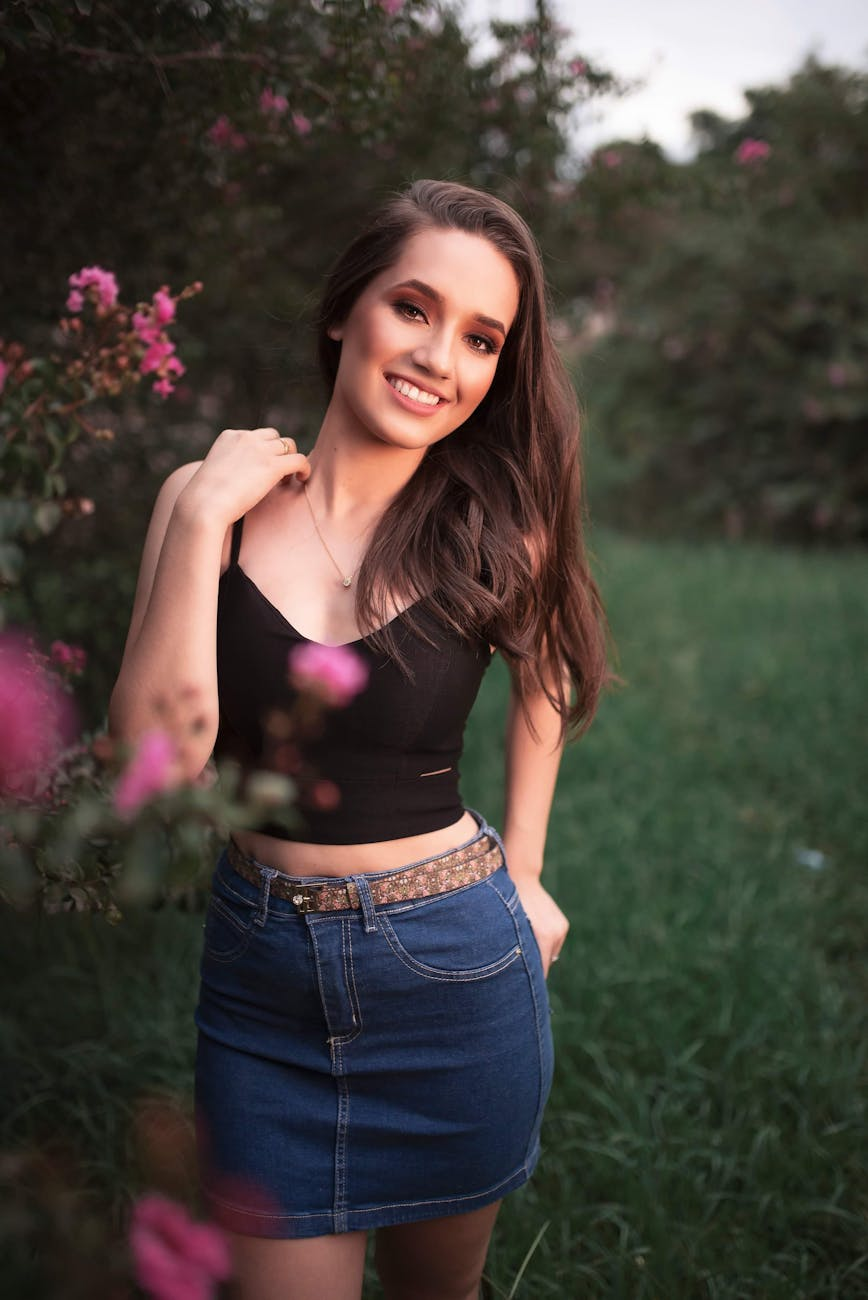crop_top: (178, 480, 518, 843)
short_medium_skirt: (159, 827, 582, 1238)
